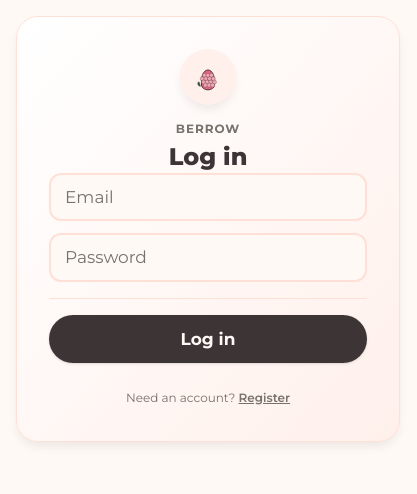
Test: LoginPage › logs in and shows a friendly message on invalid credentials
The image size is (417, 494).
Type "buyer@example.com" into the field labelled "Email" at (208, 197), box x1=49 y1=173 x2=367 y2=221
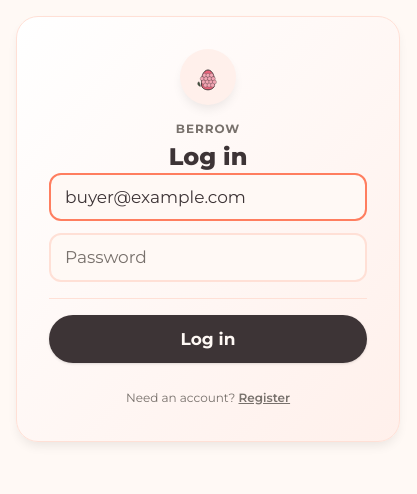
Type "wrong-password" into the password field labelled "Password" at (208, 257), box x1=49 y1=233 x2=367 y2=282
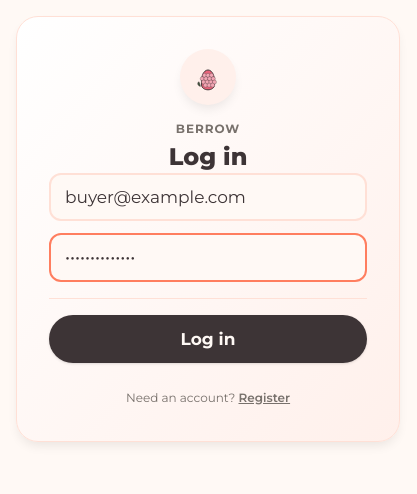
Click the button "Log in" at (208, 339), box x1=49 y1=315 x2=367 y2=363
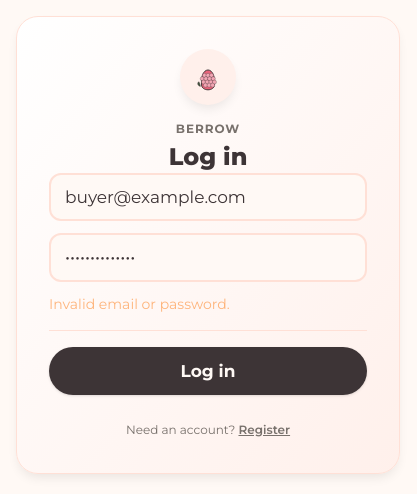
Now the text "Invalid email or password." is shown, box x1=49 y1=295 x2=230 y2=313
